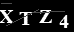4: (59, 14, 70, 29)
T: (18, 11, 33, 26)
X: (1, 9, 14, 24)
Z: (38, 9, 53, 24)
